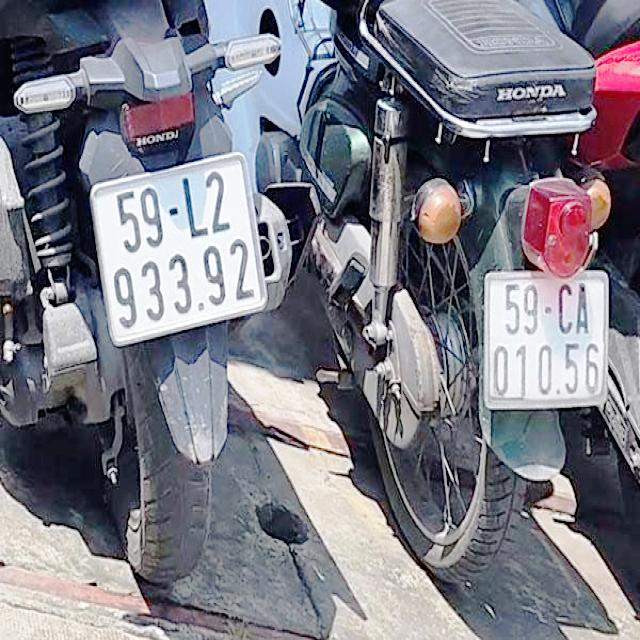license_plate: (98, 160, 266, 346), (487, 276, 611, 403)
